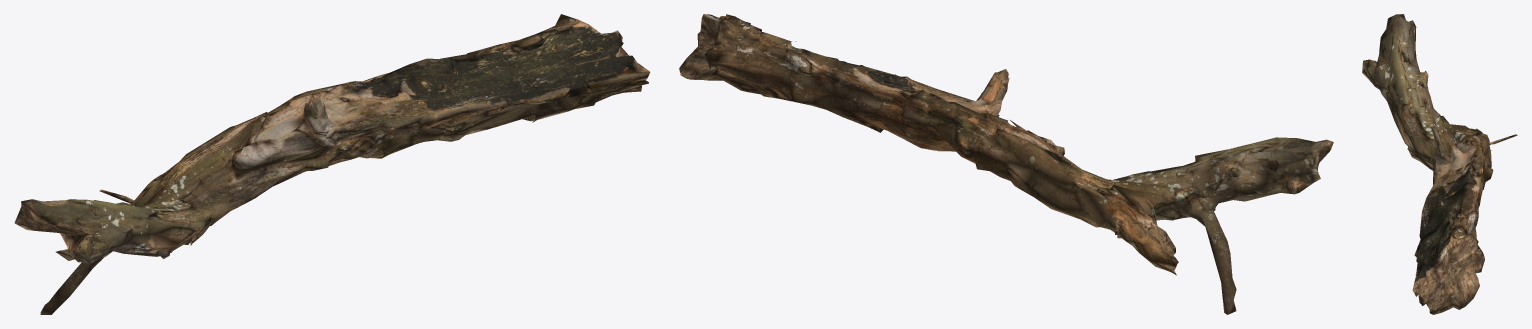
File: dead_tree_trunk_02.glb
3 views of the same model, side by side, from view 1: azimuth 30°, elevation 25°; view 2: azimuth 150°, elevation 25°; view 3: azimuth 270°, elevation 25° (orthographic). The views are drawn at different scales.
Visible parts, largest first — view 1: dead_tree_trunk_02; view 2: dead_tree_trunk_02; view 3: dead_tree_trunk_02.
Boxes of the visible parts, <box> form: dead_tree_trunk_02: <box>14,14,650,314</box>; dead_tree_trunk_02: <box>679,14,1333,314</box>; dead_tree_trunk_02: <box>1362,14,1517,314</box>.
Bounding box in the file's own units: 4.05 × 1.05 × 1.05.
1 material, 1 textured.
